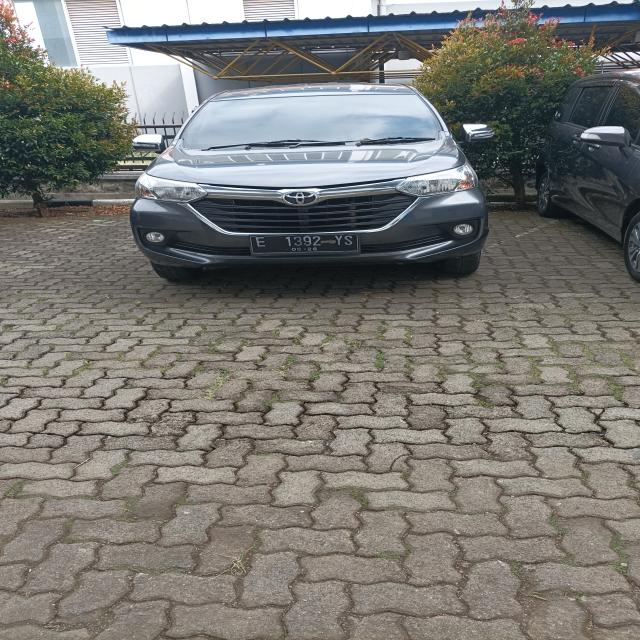license-plat: (242, 223, 372, 264)
